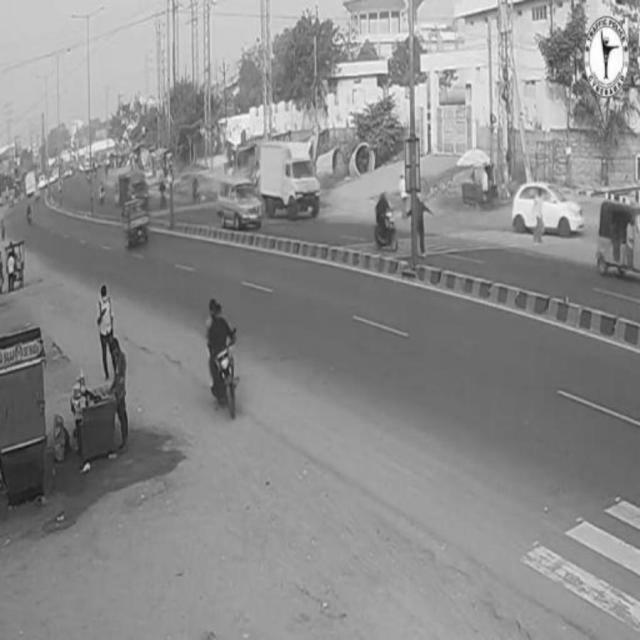person: (110, 333, 134, 454), (94, 280, 116, 381)
vehicle: (261, 144, 322, 220), (208, 295, 242, 419), (512, 190, 583, 241), (599, 202, 640, 286), (219, 179, 259, 229), (375, 194, 400, 255), (125, 197, 152, 242)
